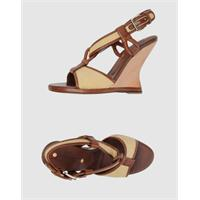shoe: (48, 10, 157, 94), (40, 134, 154, 180)
